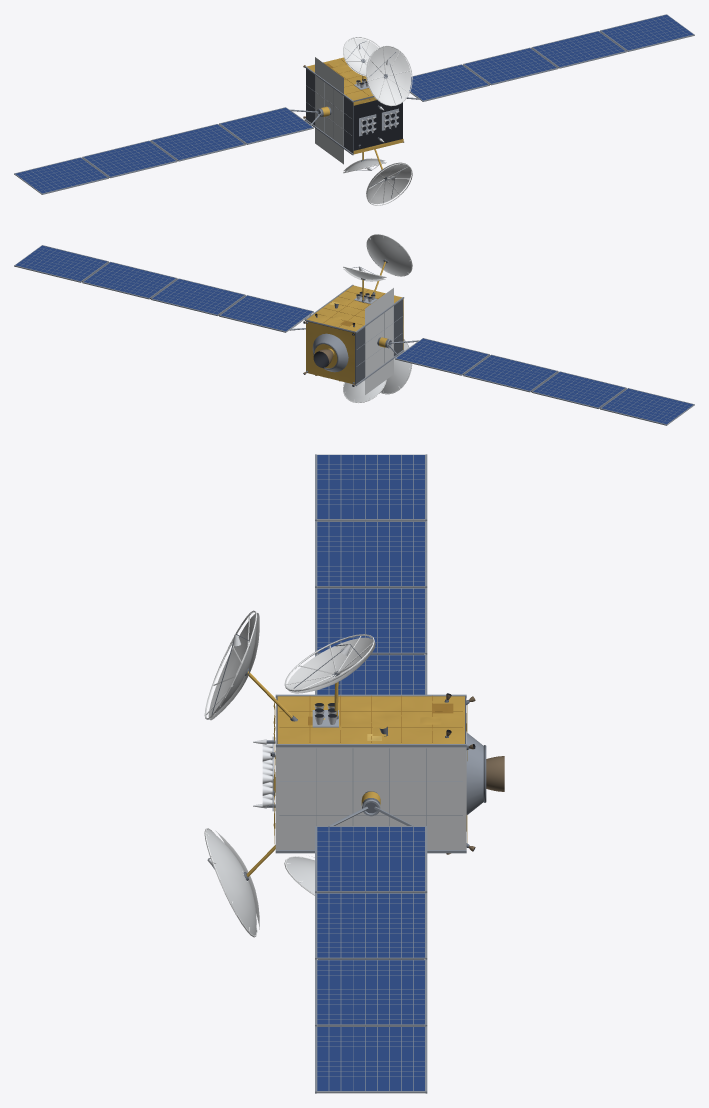
Rendered from bus-dfh-4.glb.
3 renders of one model, top to bottom at view 1: azimuth 30°, elevation 25°; view 2: azimuth 150°, elevation 25°; view 3: azimuth 270°, elevation 25°, orthographic. The views are drawn at different scales.
Visible parts, largest first — view 1: body, solar-panel, foil; view 2: body, solar-panel, foil; view 3: solar-panel, body, foil.
Part boxes in pixels (x1,y1,x2,y2): body: [14, 14, 694, 205]; solar-panel: [15, 15, 693, 193]; foil: [307, 57, 403, 169]; body: [14, 234, 694, 425]; solar-panel: [15, 245, 692, 424]; foil: [306, 261, 403, 384]; solar-panel: [317, 455, 424, 1090]; body: [204, 454, 504, 1093]; foil: [246, 671, 467, 876].
Bounding box in the file's own units: 29.98 × 6.98 × 5.97.
